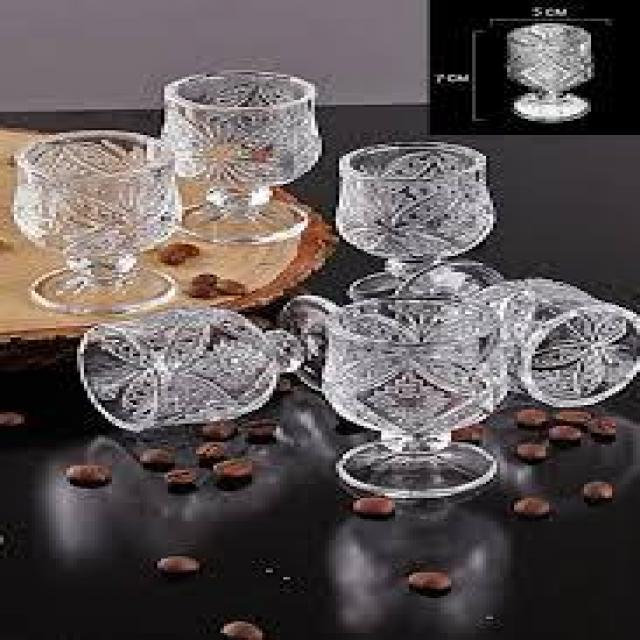non-organic waste: (323, 293, 516, 498)
